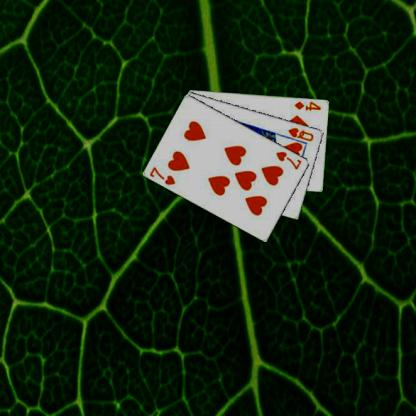4D: (292, 99, 322, 112)
7H: (273, 149, 303, 171), (147, 164, 177, 186)
QH: (286, 125, 315, 142)
